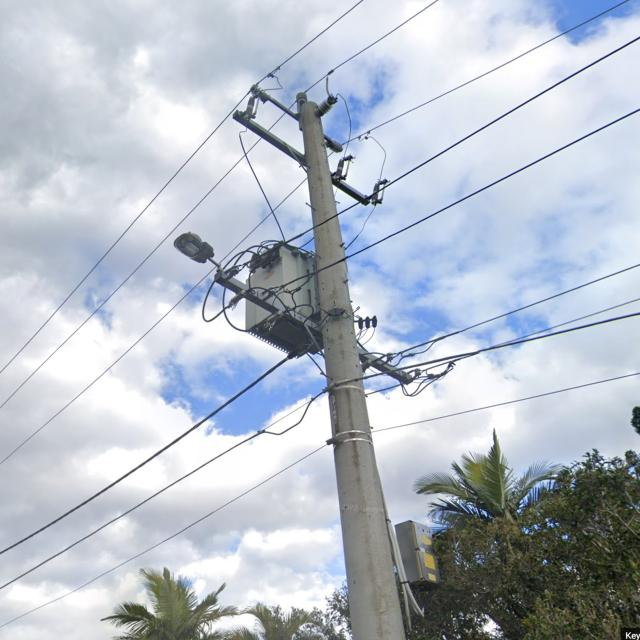HV-transmission: (232, 84, 389, 208)
LV link: (201, 280, 260, 323), (242, 304, 316, 332), (398, 363, 454, 396)
concrete-pole: (298, 100, 408, 640)
crossarm: (212, 271, 414, 384), (232, 110, 371, 206), (266, 96, 334, 142)
transformer: (244, 241, 325, 358)
